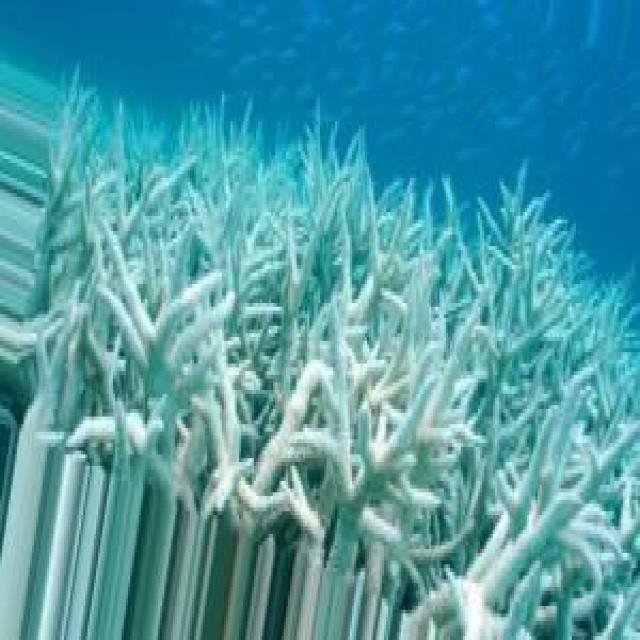bleached coral: (156, 284, 228, 401), (243, 428, 346, 507), (446, 326, 506, 443), (503, 466, 570, 560), (361, 295, 414, 405), (128, 193, 218, 246), (79, 314, 124, 417), (175, 409, 220, 507), (380, 436, 437, 507), (286, 311, 329, 398), (73, 216, 122, 288), (307, 231, 335, 295)
healthy coral: (531, 227, 631, 337), (117, 95, 258, 151), (301, 129, 358, 208), (435, 193, 489, 273), (578, 379, 640, 447), (243, 189, 288, 246)
